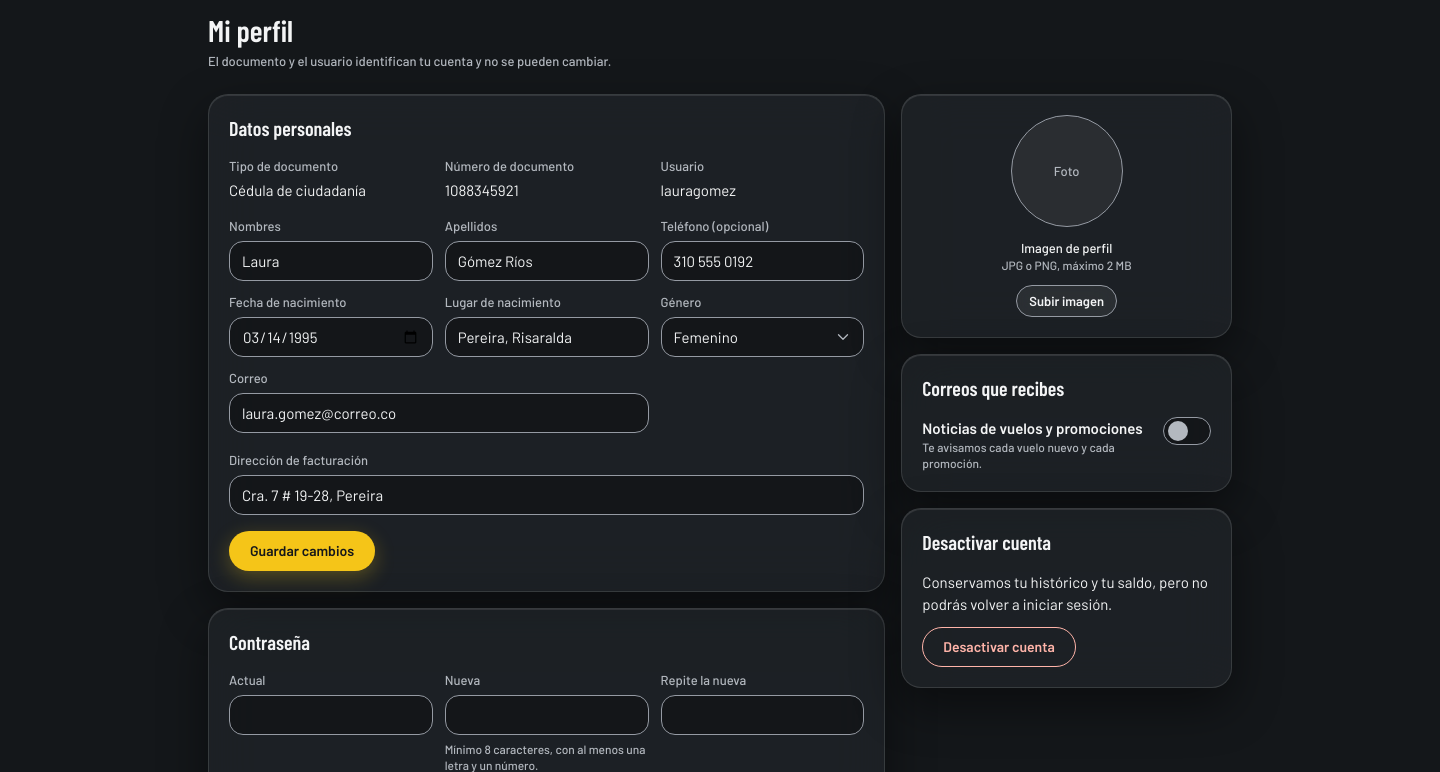
Test case: S05 · Datos personales (HU-07) › valida en pantalla: fecha futura, correo mal formado y campos vacíos
Clear the field labelled "Nombres" at (331, 261), box [229,241,433,281]
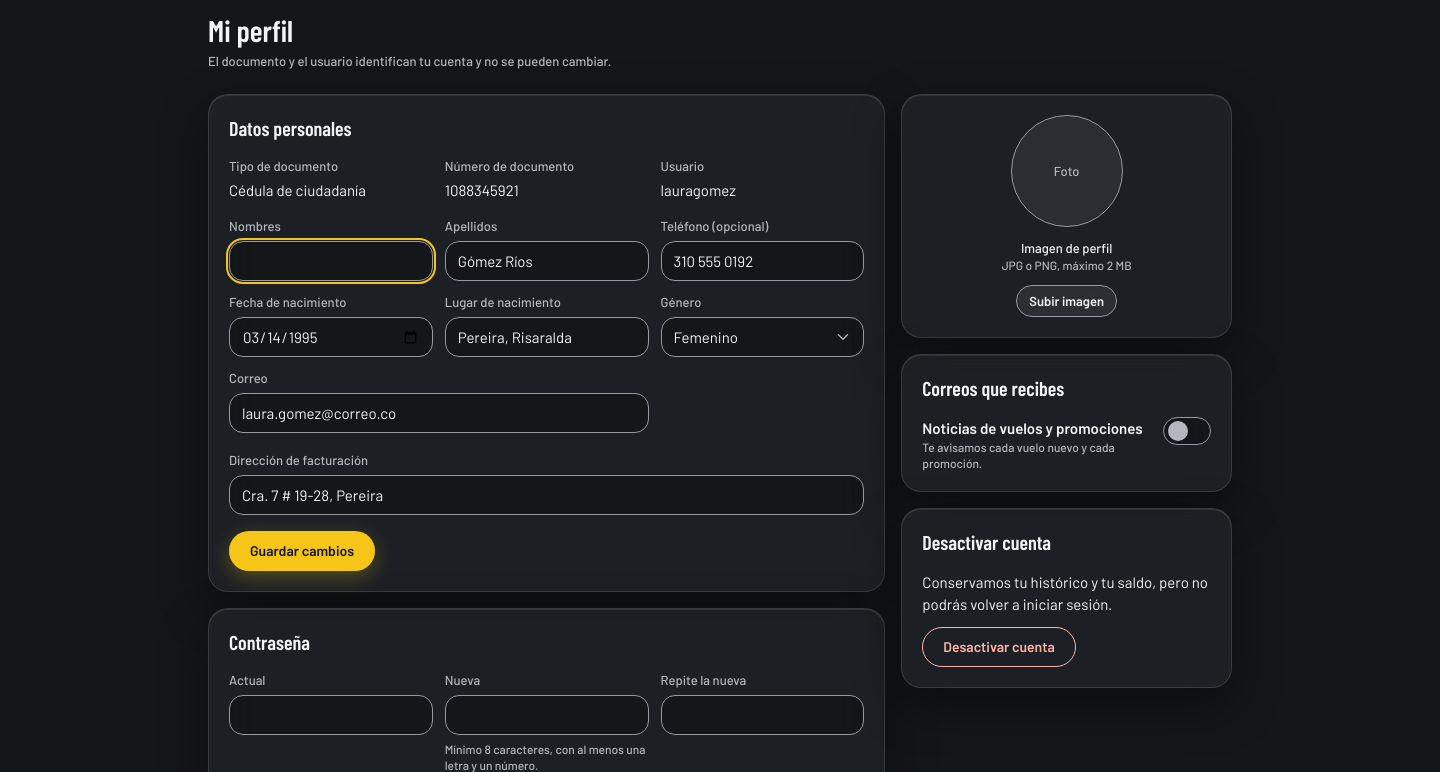
Type "2999-01-01" into the date field labelled "Fecha de nacimiento" at (331, 337), box [229,317,433,357]
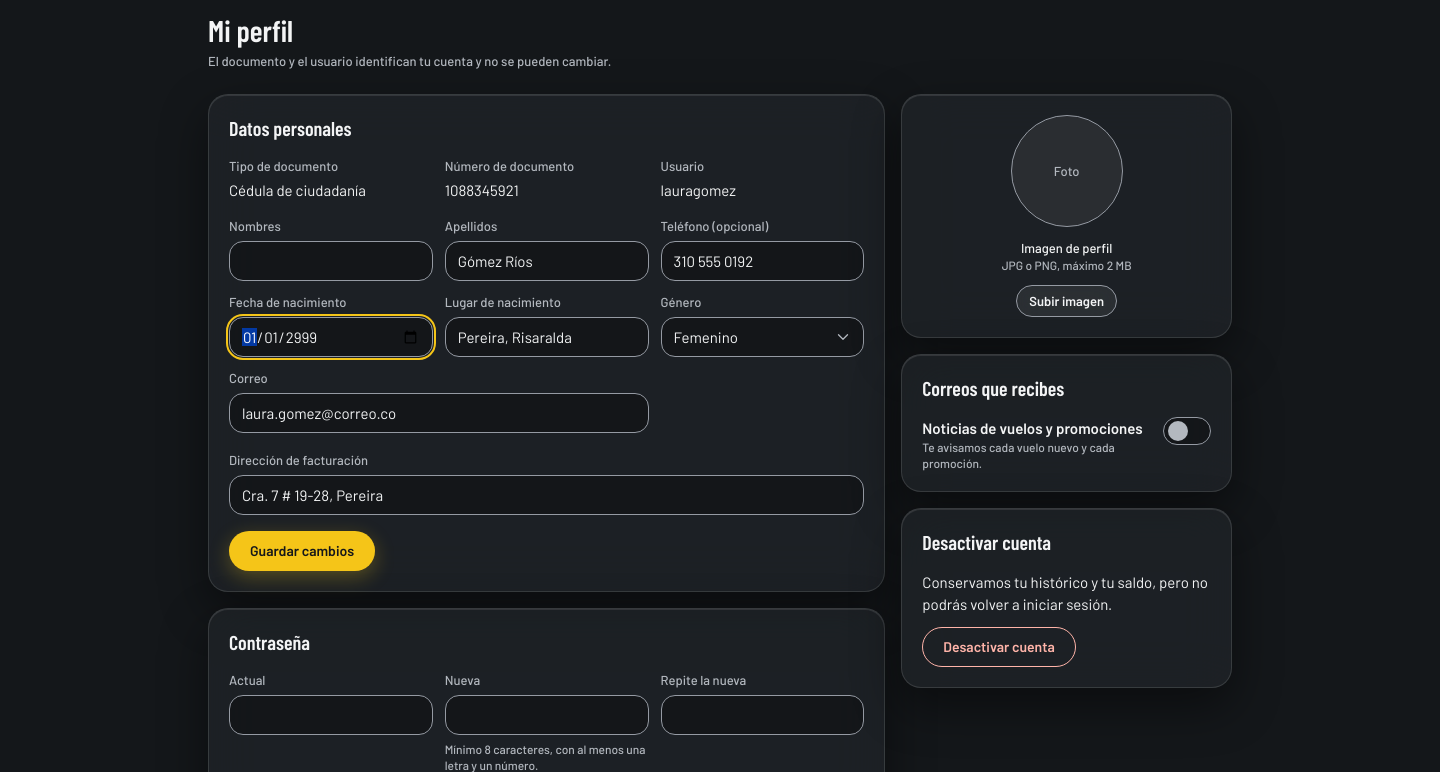
Replace the text in the field labelled "Correo" with "laura" at (439, 413), box [229,393,648,433]
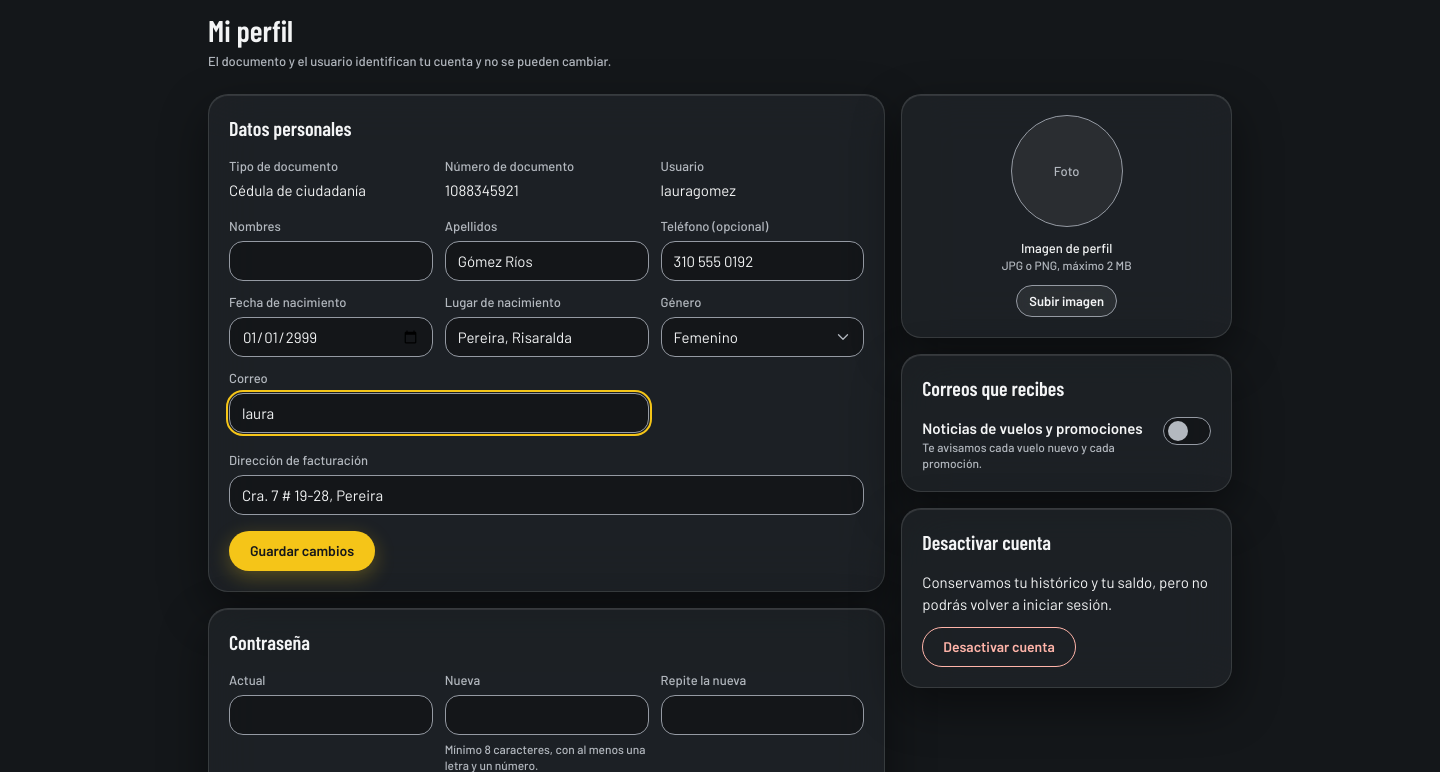
Click the button "Guardar cambios" at (302, 551), box [229,531,375,571]
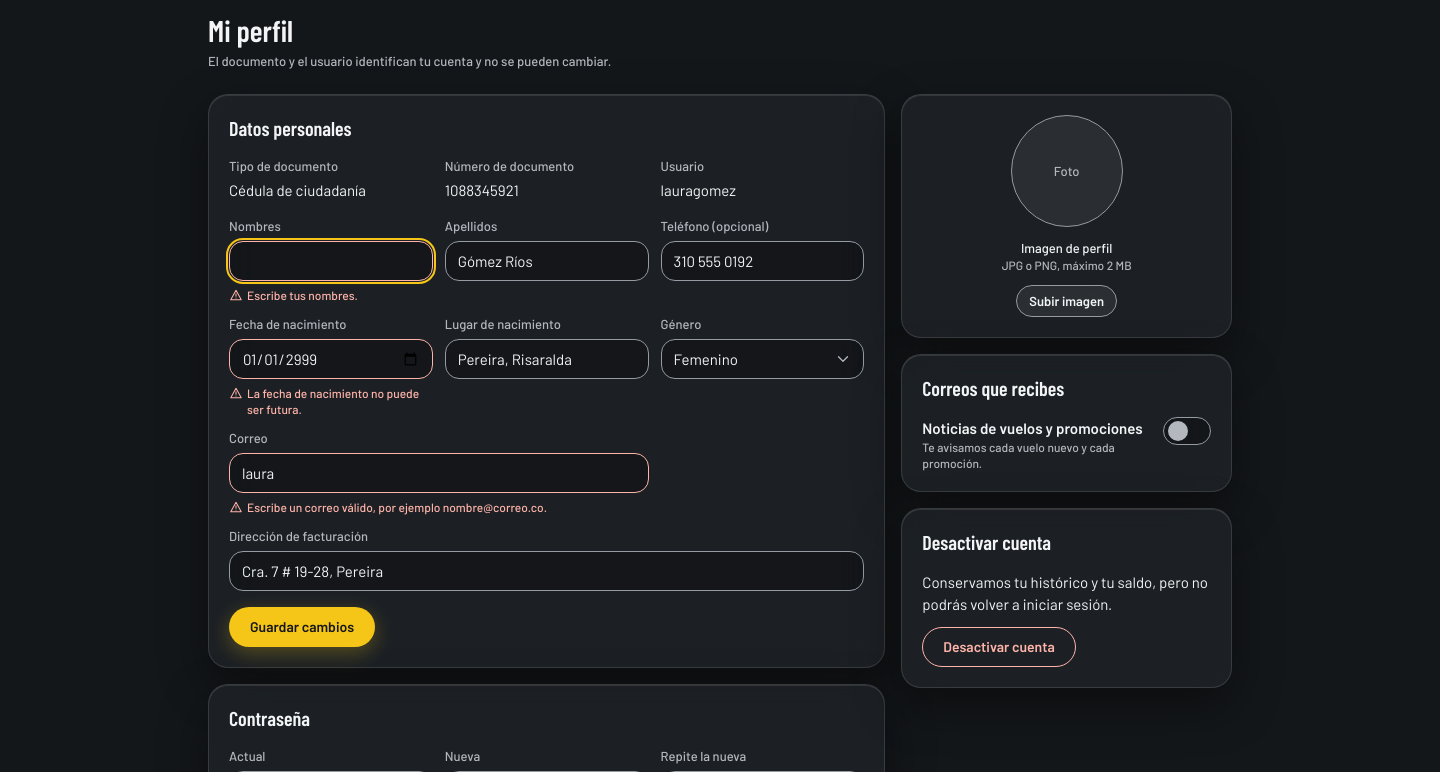
expect the text "Escribe tus nombres." is shown: met, box [229,288,358,302]
expect the text "La fecha de nacimiento no puede ser futura." is shown: met, box [229,385,433,417]
expect the text "Escribe un correo válido, por ejemplo nombre@correo.co." is shown: met, box [229,500,547,514]
